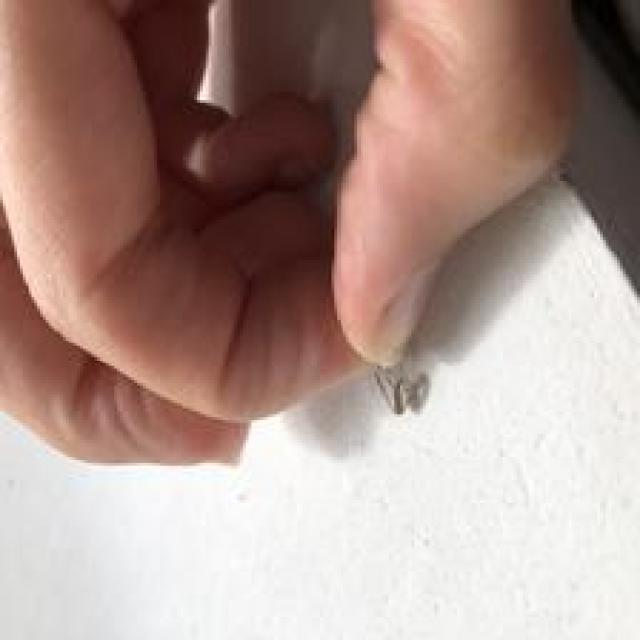Culex: (372, 361, 432, 416)
